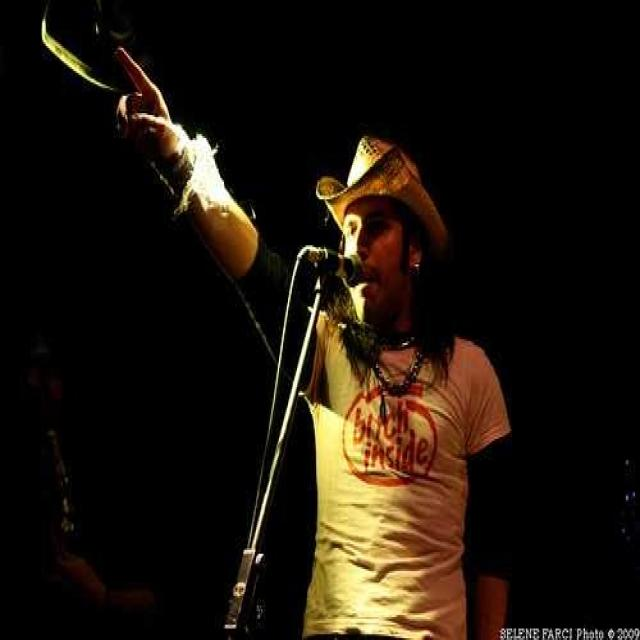microphone: (306, 245, 360, 282)
